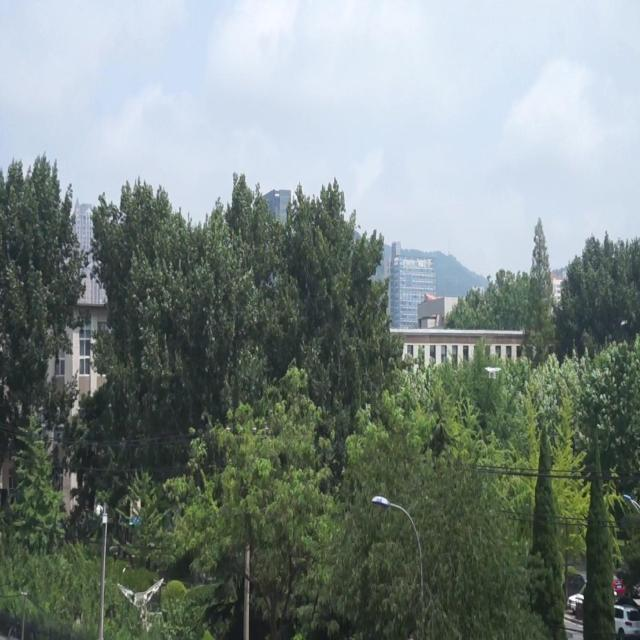drone: (484, 363, 504, 381)
